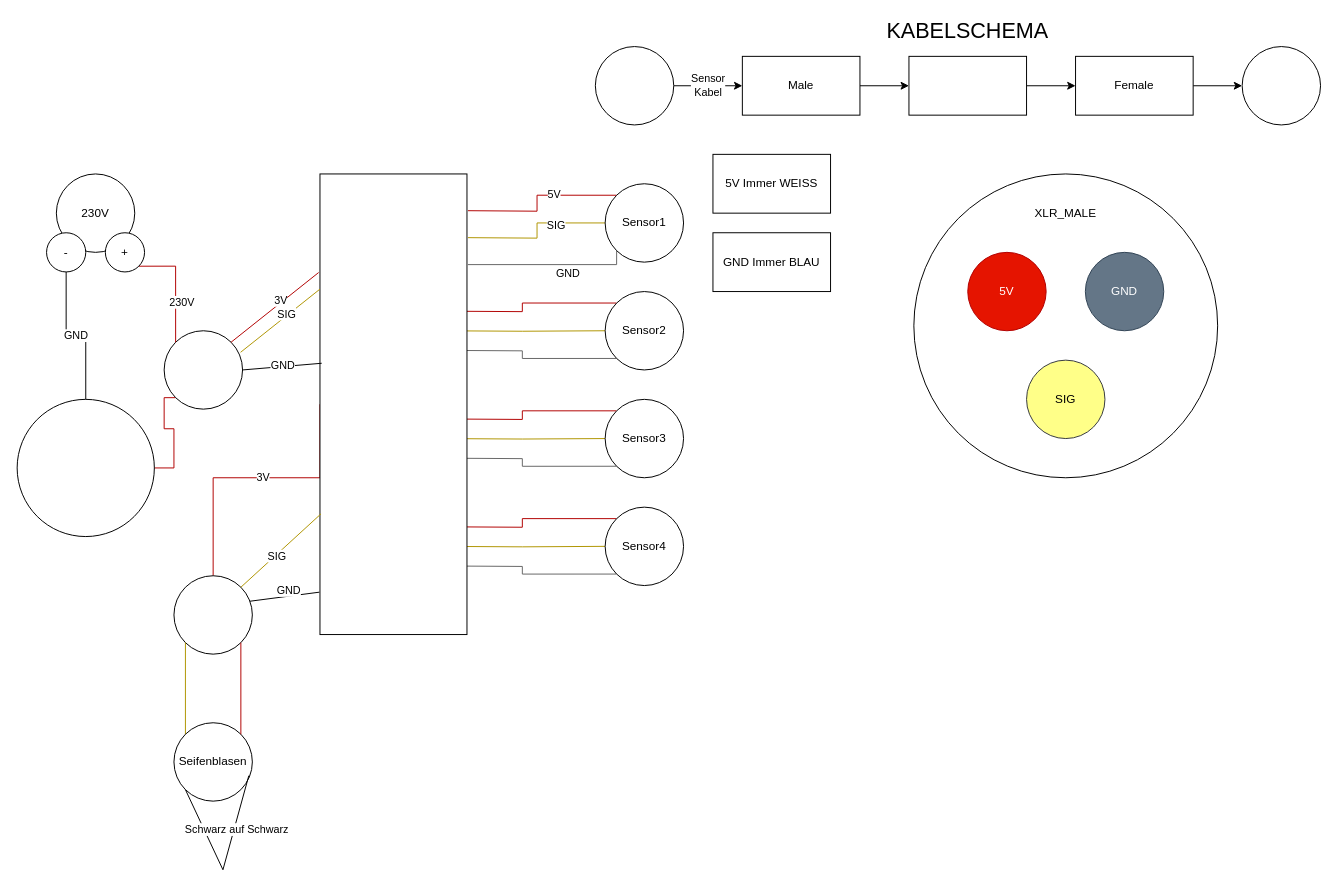
The diagram is 1338 pixels wide and 888 high, and some of its shapes have lost their labels. The shapes that lost their labels are listed below. From the top down, each one's box as (x1, y1, x2, y2) in pixels, then its label:
(594, 46, 674, 125): Sensor
(908, 55, 1027, 115): FEMALE-MALE XLR
(1241, 46, 1321, 125): ESP32
(163, 330, 243, 409): RelaisA
(319, 173, 467, 635): ESP
(16, 398, 154, 537): Lampe
(173, 575, 252, 654): Relais
